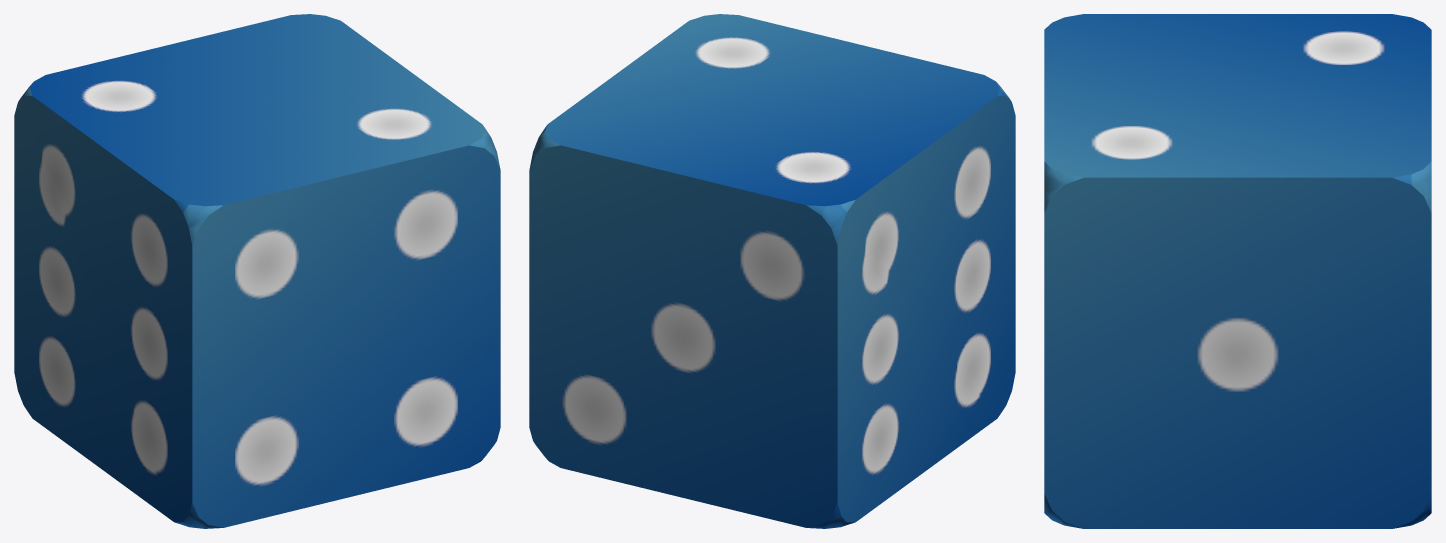
The model's file is dice2.fbx.
The picture shows the model from 3 angles, left to right: view 1: azimuth 30°, elevation 25°; view 2: azimuth 150°, elevation 25°; view 3: azimuth 270°, elevation 25°; orthographic projection. The views are drawn at different scales.
Visible parts, largest first — view 1: Cube; view 2: Cube; view 3: Cube.
Boxes of the visible parts, x1,y1,x2,y2 form: Cube: (14,14,500,528); Cube: (529,14,1015,528); Cube: (1044,14,1431,528).
Size of the model in its own units: 200 by 200 by 200.
1 material, 1 textured.
